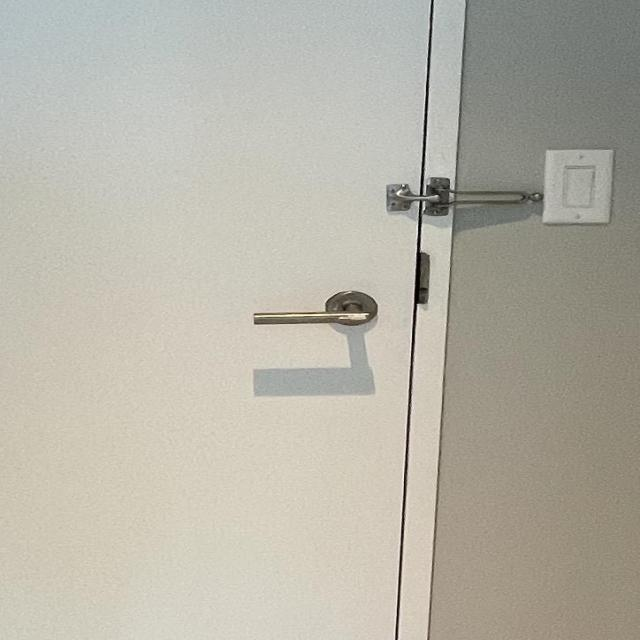door_handle: (245, 280, 386, 345)
